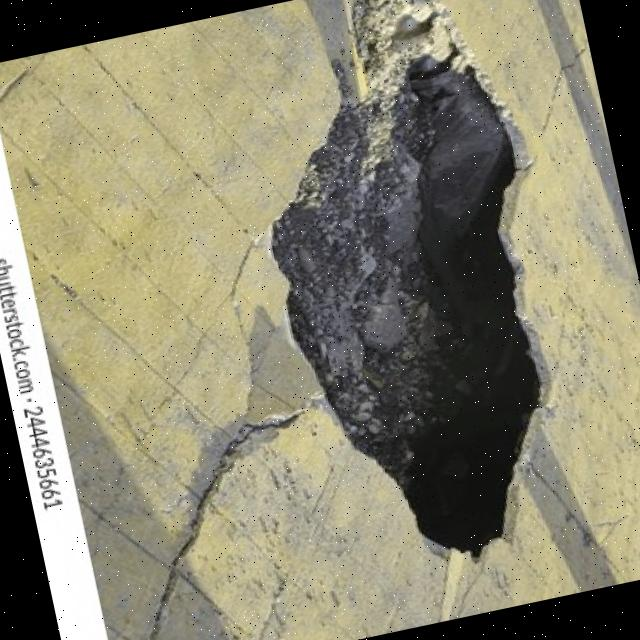road collapse: (149, 0, 640, 612)
